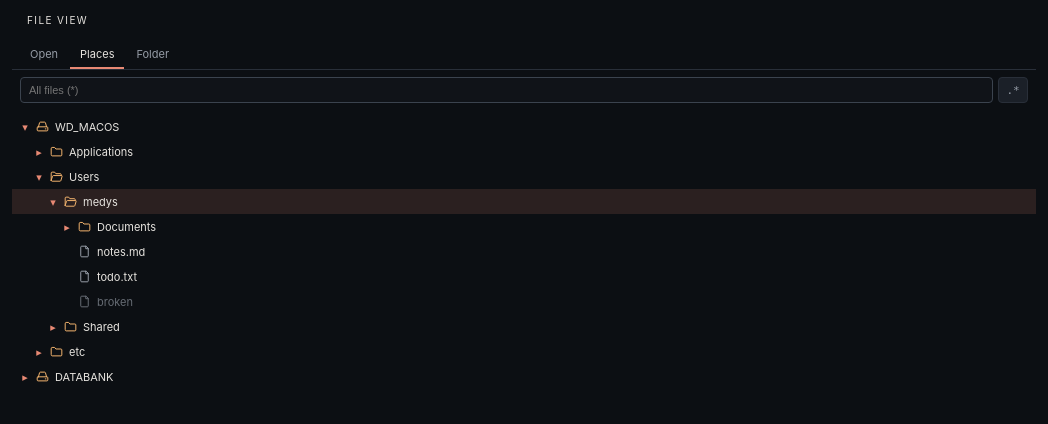
Test case: the filter narrows files but never folders, and hidden files are opt-in
This screenshot has width=1048, height=424.
Expected: the button "notes.md" is shown, x1=12 y1=239 x2=1036 y2=264
In the search field named "File filter": x=506, y=90 x1=20 y1=77 x2=993 y2=103, type "*.md; *.rs"
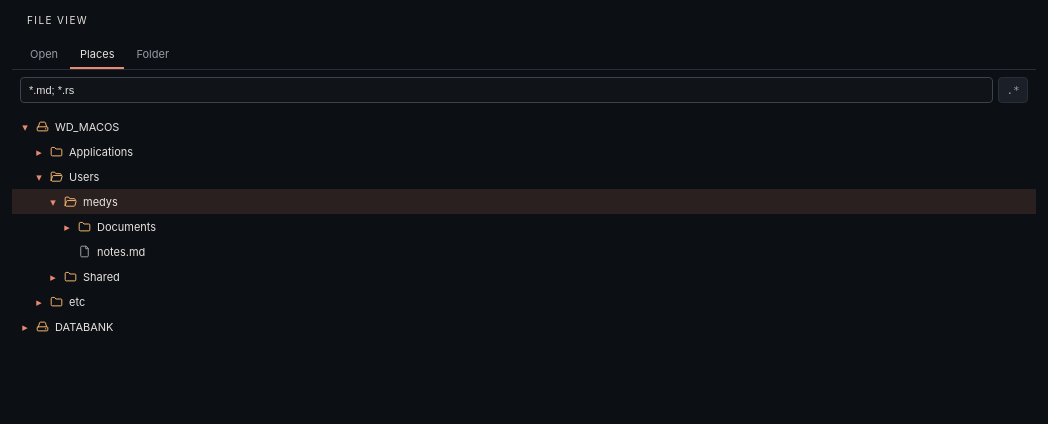
Expected: the button "notes.md" is shown, x1=12 y1=239 x2=1036 y2=264
Now the button "todo.txt" is gone
Clear the search field named "File filter": x=506, y=90 x1=20 y1=77 x2=993 y2=103
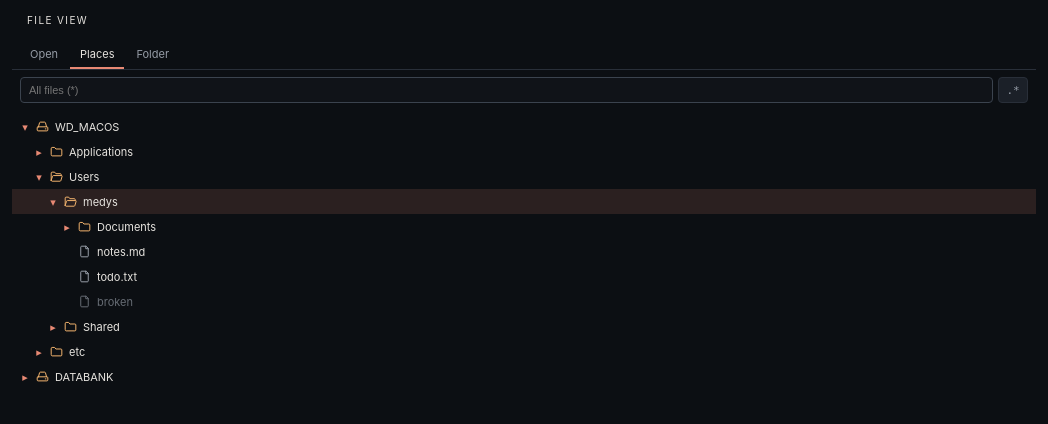
Expected: the button ".zshrc" is not shown
Now the button "todo.txt" is shown, box x1=12 y1=264 x2=1036 y2=289
Click the button named "Show hidden files": x=1013, y=90 x1=998 y1=77 x2=1028 y2=103
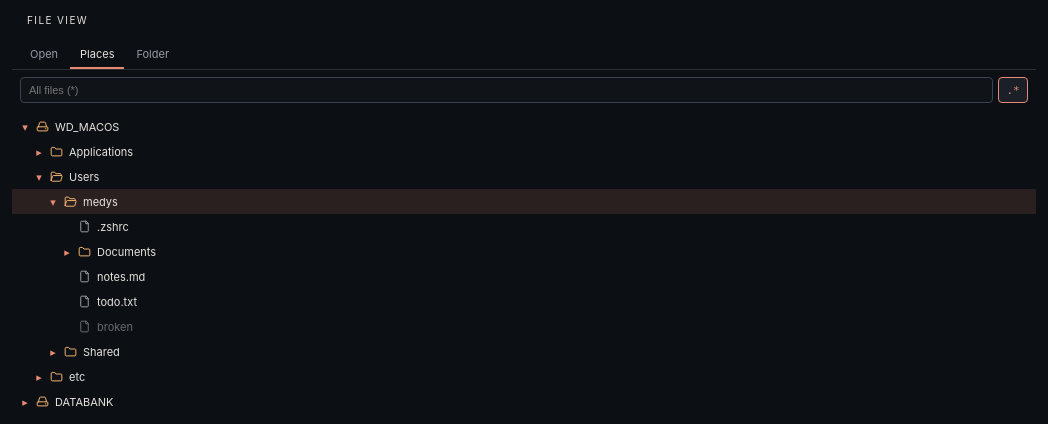
Now the button ".zshrc" is shown, box x1=12 y1=214 x2=1036 y2=239
